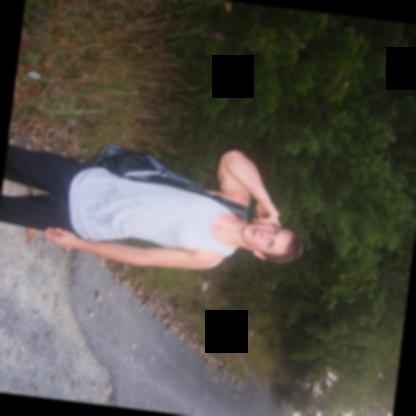backpack: (87, 146, 249, 218)
